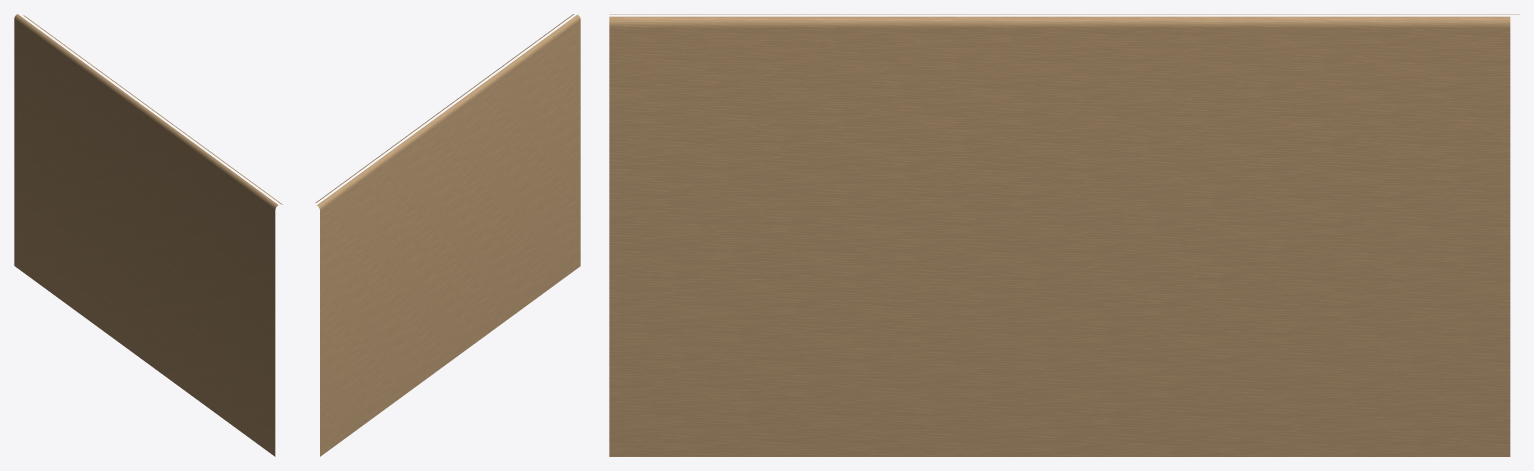
File: Level2_19.glb
3 views of the same model, side by side, from view 1: azimuth 30°, elevation 25°; view 2: azimuth 150°, elevation 25°; view 3: azimuth 270°, elevation 25° (orthographic). The views are drawn at different scales.
Visible parts, largest first — view 1: Level2_19; view 2: Level2_19; view 3: Level2_19.
Boxes of the visible parts, <box> form: Level2_19: <box>14,14,282,456</box>; Level2_19: <box>315,14,580,456</box>; Level2_19: <box>609,14,1519,456</box>.
Bounding box in the file's own units: 4.12 × 105 × 198.
Materials: 1 (1 with a texture image).
